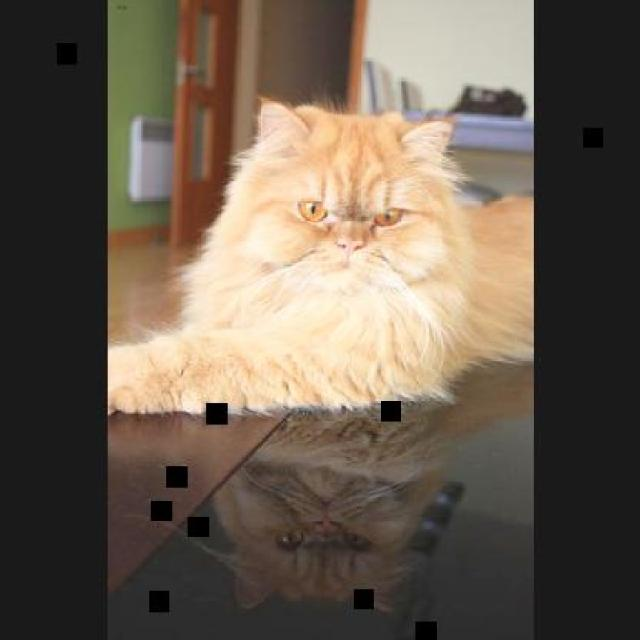unauthorized: (108, 94, 534, 417)
